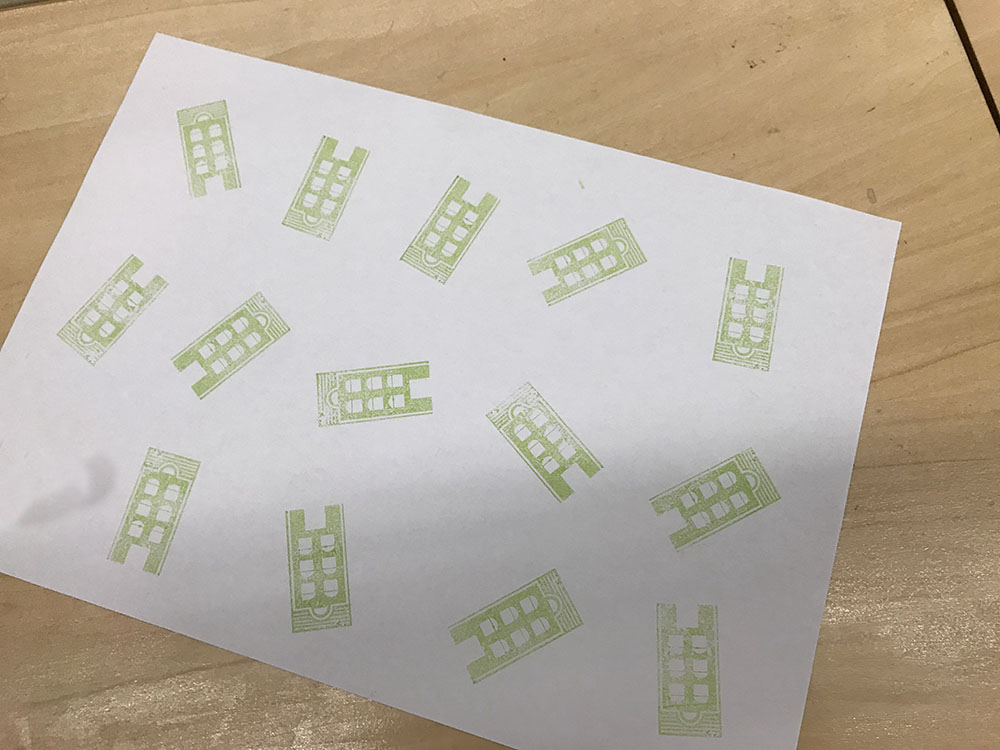build: (416, 546, 615, 709), (38, 239, 185, 378), (474, 376, 618, 512), (516, 198, 666, 321), (645, 438, 791, 562), (164, 277, 299, 411), (633, 585, 738, 748), (387, 154, 508, 294), (689, 244, 797, 386), (266, 118, 376, 257), (106, 434, 201, 590), (305, 348, 456, 444), (277, 493, 367, 649), (166, 83, 251, 218)
